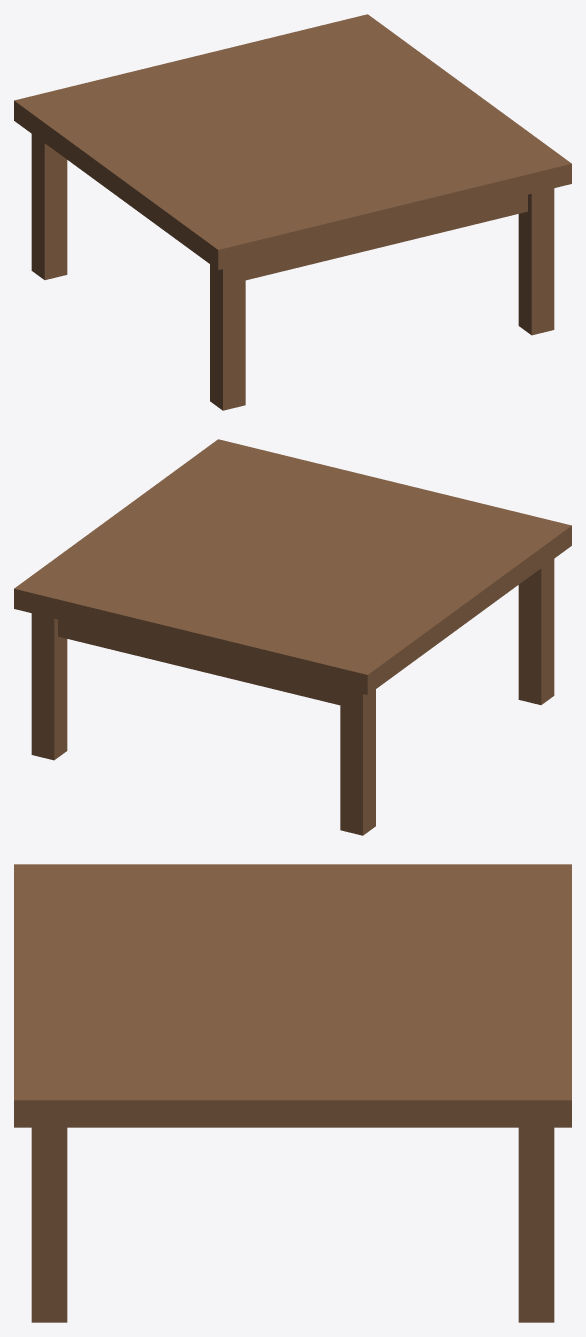
The model's file is table_whole.glb.
3 views of the same model, one above another, from view 1: azimuth 30°, elevation 25°; view 2: azimuth 150°, elevation 25°; view 3: azimuth 270°, elevation 25° (orthographic). The views are drawn at different scales.
Parts seen in each view (by area): view 1: table_whole_0; view 2: table_whole_0; view 3: table_whole_0.
Boxes of the visible parts, bbox=[...] form: table_whole_0: bbox=[14, 14, 571, 410]; table_whole_0: bbox=[14, 439, 571, 835]; table_whole_0: bbox=[14, 864, 571, 1322].
Size of the model in its own units: 1.1 by 0.5 by 1.1.
